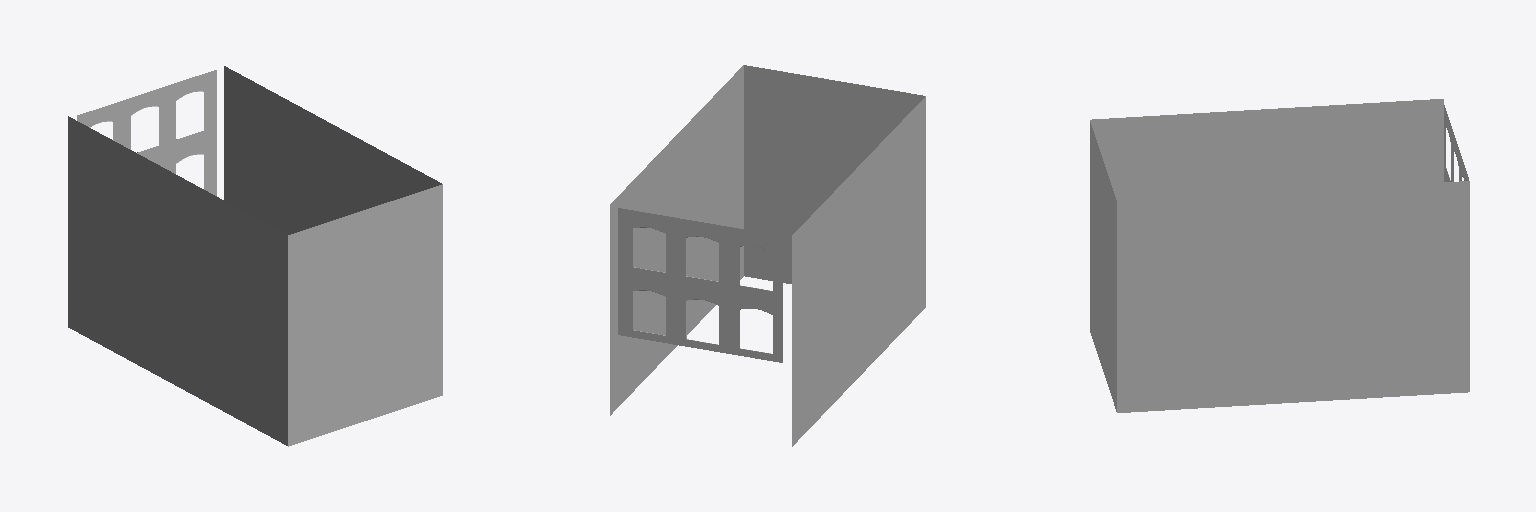
3 renders of one model, left to right at view 1: azimuth 30°, elevation 25°; view 2: azimuth 150°, elevation 25°; view 3: azimuth 270°, elevation 25°, orthographic.
Visible parts, largest first — view 1: Bistro_Research_Exterior_paris_building_03_mirrored_10__4967; view 2: Bistro_Research_Exterior_paris_building_03_mirrored_10__4967; view 3: Bistro_Research_Exterior_paris_building_03_mirrored_10__4967.
Boxes of the visible parts, <box> form: Bistro_Research_Exterior_paris_building_03_mirrored_10__4967: <box>68,66,442,446</box>; Bistro_Research_Exterior_paris_building_03_mirrored_10__4967: <box>610,65,925,446</box>; Bistro_Research_Exterior_paris_building_03_mirrored_10__4967: <box>1090,99,1469,412</box>.
Bounding box in the file's own units: 18.21 × 17.4 × 28.38.